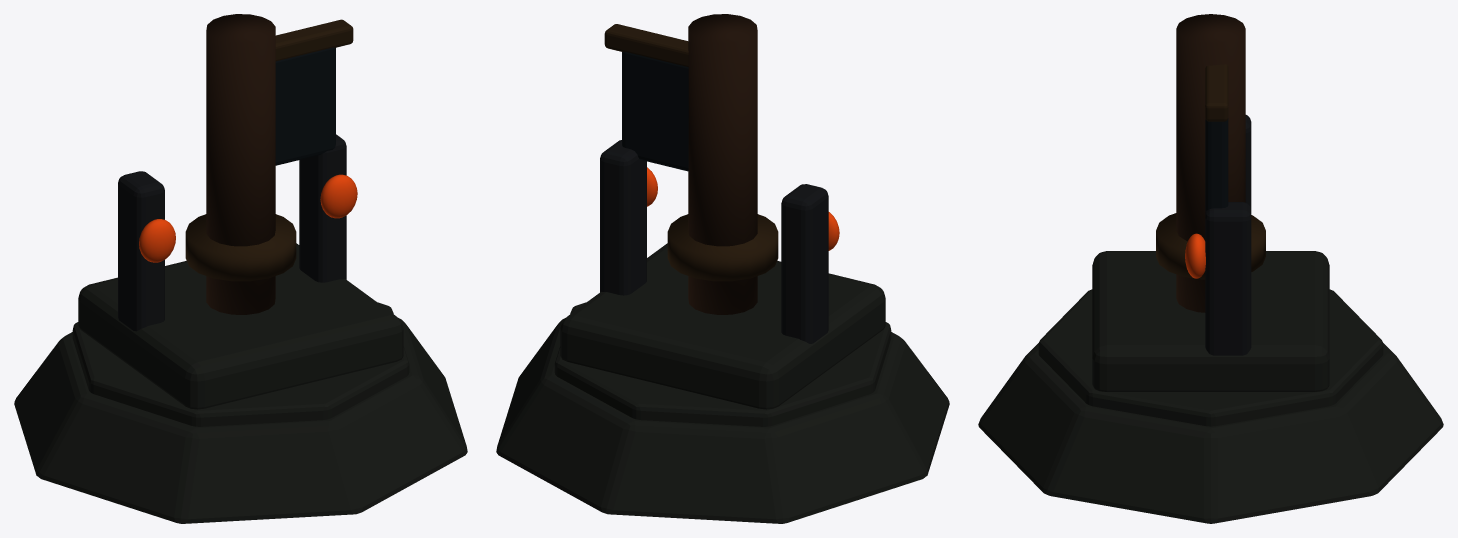
Rendered from TowerAura0_pose.obj.
3 renders of one model, left to right at view 1: azimuth 30°, elevation 25°; view 2: azimuth 150°, elevation 25°; view 3: azimuth 270°, elevation 25°, orthographic.
Parts seen in each view (by area): view 1: circular_stone_dais_lower_course, carved_stone_root, oak_banner_mast, circular_stone_dais_upper_course, dark_command_banner, iron_ritual_pillar, iron_ritual_pillar.001, bronze_mast_collar, bronze_banner_bar, amber_pillar_rune.001, amber_pillar_rune; view 2: circular_stone_dais_lower_course, carved_stone_root, oak_banner_mast, circular_stone_dais_upper_course, iron_ritual_pillar, dark_command_banner, iron_ritual_pillar.001, bronze_mast_collar, bronze_banner_bar; view 3: circular_stone_dais_lower_course, carved_stone_root, circular_stone_dais_upper_course, oak_banner_mast, iron_ritual_pillar.001, bronze_mast_collar, dark_command_banner, bronze_banner_bar, amber_pillar_rune.001, iron_ritual_pillar.
Boxes of the visible parts, x1,y1,x2,y2 form: circular_stone_dais_lower_course: [14, 318, 467, 523]; carved_stone_root: [78, 243, 403, 409]; oak_banner_mast: [206, 14, 275, 314]; circular_stone_dais_upper_course: [72, 302, 409, 426]; dark_command_banner: [275, 47, 335, 165]; iron_ritual_pillar: [118, 171, 164, 331]; iron_ritual_pillar.001: [299, 134, 346, 282]; bronze_mast_collar: [185, 214, 296, 281]; bronze_banner_bar: [275, 19, 353, 61]; amber_pillar_rune.001: [320, 174, 357, 218]; amber_pillar_rune: [139, 219, 175, 262]; circular_stone_dais_lower_course: [496, 318, 949, 523]; carved_stone_root: [560, 243, 885, 409]; oak_banner_mast: [688, 14, 757, 314]; circular_stone_dais_upper_course: [554, 302, 891, 426]; iron_ritual_pillar: [781, 184, 828, 343]; dark_command_banner: [622, 51, 688, 171]; iron_ritual_pillar.001: [600, 140, 646, 295]; bronze_mast_collar: [667, 214, 778, 281]; bronze_banner_bar: [604, 24, 688, 66]; circular_stone_dais_lower_course: [978, 343, 1443, 523]; carved_stone_root: [1092, 251, 1329, 391]; circular_stone_dais_upper_course: [1038, 289, 1383, 426]; oak_banner_mast: [1176, 14, 1245, 312]; iron_ritual_pillar.001: [1205, 202, 1251, 355]; bronze_mast_collar: [1156, 213, 1265, 279]; dark_command_banner: [1205, 118, 1228, 211]; bronze_banner_bar: [1205, 64, 1228, 121]; amber_pillar_rune.001: [1185, 233, 1205, 278]; iron_ritual_pillar: [1245, 115, 1251, 208].
Size of the model in its own units: 1.61 by 1.52 by 1.61.
